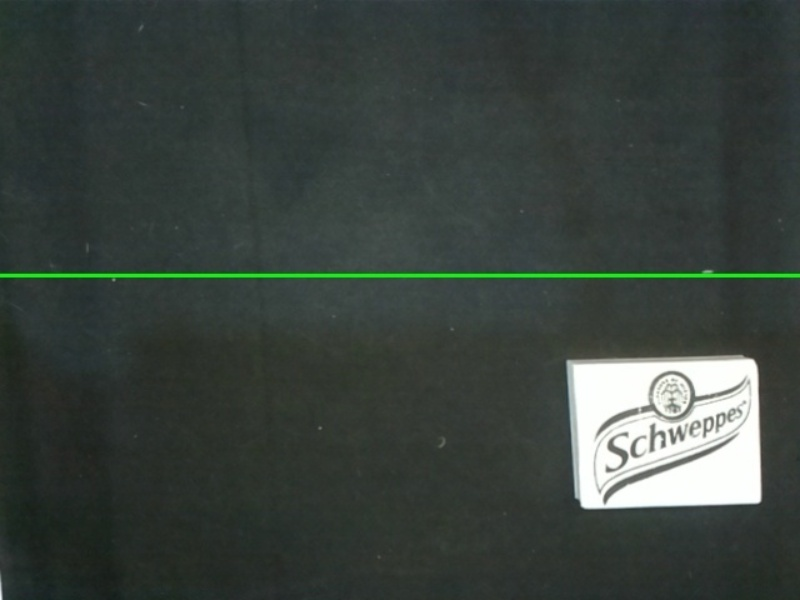schweppes: (571, 357, 766, 507)
